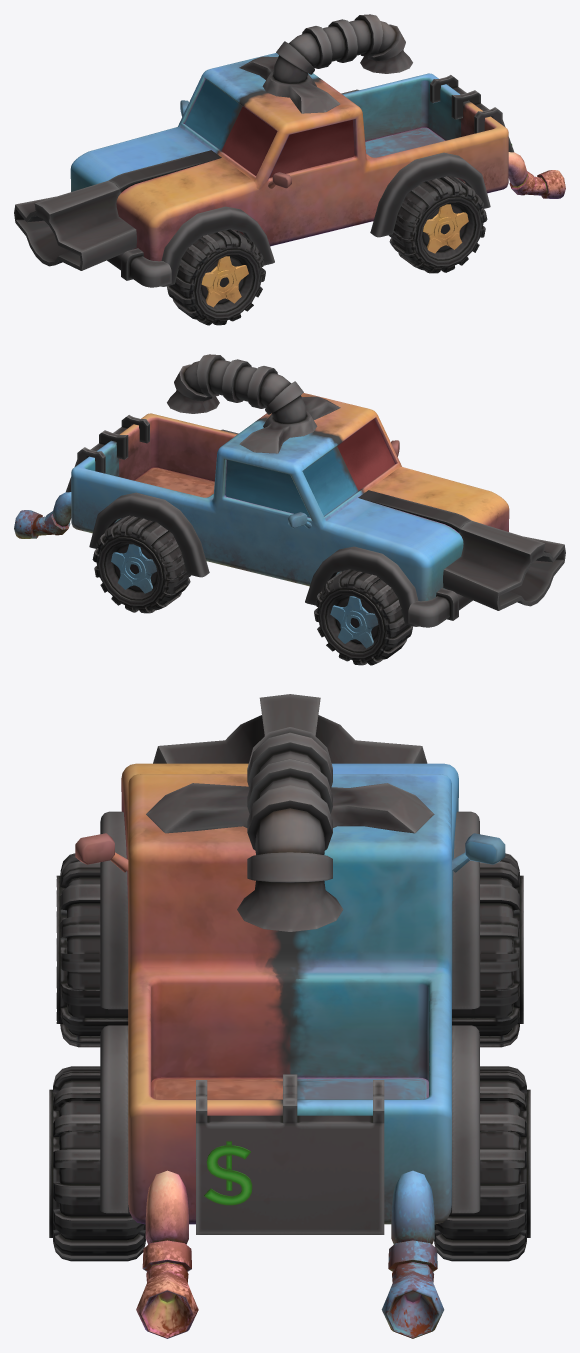
File: truck2 1.fbx
3 renders of one model, top to bottom at view 1: azimuth 30°, elevation 25°; view 2: azimuth 150°, elevation 25°; view 3: azimuth 270°, elevation 25°, orthographic. The views are drawn at different scales.
Parts seen in each view (by area): view 1: Cube.001, Vert.001, Cylinder.005, Cube.003, sol_arka_tekerlek.001, sol_ön_tekerlek, Cylinder.003, Cube.002, Cube.006, Retopo_Cylinder.001, Retopo_Cylinder; view 2: Cube.001, Vert.001, Cylinder.005, Cube.003, sag_arka_tekerlek.003, sağ_ön_tekerlek.002, Cylinder.001, Cube.002, Cube.006, Retopo_Cylinder.003, Retopo_Cylinder.002; view 3: Cube.001, Vert.001, Cube.006, Cube.003, sol_arka_tekerlek.001, sag_arka_tekerlek.003, sol_ön_tekerlek, sağ_ön_tekerlek.002, Cylinder.005, Cylinder.001, Cylinder.003, Retopo_Curve (+2 smaller).
Part boxes in pixels (x1=…): Cube.001: x1=70, y1=53, x2=508, y2=261; Vert.001: x1=239, y1=14, x2=412, y2=113; Cylinder.005: x1=14, y1=180, x2=136, y2=270; Cube.003: x1=161, y1=89, x2=490, y2=286; sol_arka_tekerlek.001: x1=389, y1=175, x2=487, y2=273; sol_ön_tekerlek: x1=167, y1=229, x2=265, y2=325; Cylinder.003: x1=508, y1=152, x2=565, y2=198; Cube.002: x1=107, y1=248, x2=171, y2=287; Cube.006: x1=430, y1=75, x2=513, y2=152; Retopo_Cylinder.001: x1=201, y1=256, x2=248, y2=307; Retopo_Cylinder: x1=423, y1=204, x2=468, y2=253; Cube.001: x1=71, y1=393, x2=509, y2=601; Vert.001: x1=167, y1=354, x2=340, y2=453; Cylinder.005: x1=443, y1=520, x2=565, y2=610; Cube.003: x1=89, y1=429, x2=418, y2=626; sag_arka_tekerlek.003: x1=92, y1=515, x2=190, y2=613; sağ_ön_tekerlek.002: x1=314, y1=569, x2=412, y2=665; Cylinder.001: x1=14, y1=492, x2=71, y2=538; Cube.002: x1=408, y1=588, x2=472, y2=627; Cube.006: x1=66, y1=415, x2=149, y2=492; Retopo_Cylinder.003: x1=330, y1=596, x2=378, y2=648; Retopo_Cylinder.002: x1=111, y1=544, x2=156, y2=593; Cube.001: x1=121, y1=763, x2=458, y2=1224; Vert.001: x1=146, y1=727, x2=434, y2=931; Cube.006: x1=196, y1=1074, x2=384, y2=1234; Cube.003: x1=100, y1=811, x2=480, y2=1213; sol_arka_tekerlek.001: x1=49, y1=1066, x2=145, y2=1261; sag_arka_tekerlek.003: x1=434, y1=1066, x2=530, y2=1261; sol_ön_tekerlek: x1=56, y1=853, x2=128, y2=1047; sağ_ön_tekerlek.002: x1=452, y1=853, x2=523, y2=1047; Cylinder.005: x1=153, y1=694, x2=427, y2=763; Cylinder.001: x1=381, y1=1170, x2=444, y2=1338; Cylinder.003: x1=136, y1=1170, x2=198, y2=1338; Retopo_Curve: x1=204, y1=1141, x2=252, y2=1205.
Bounding box in the file's own units: 777 × 339 × 333.
